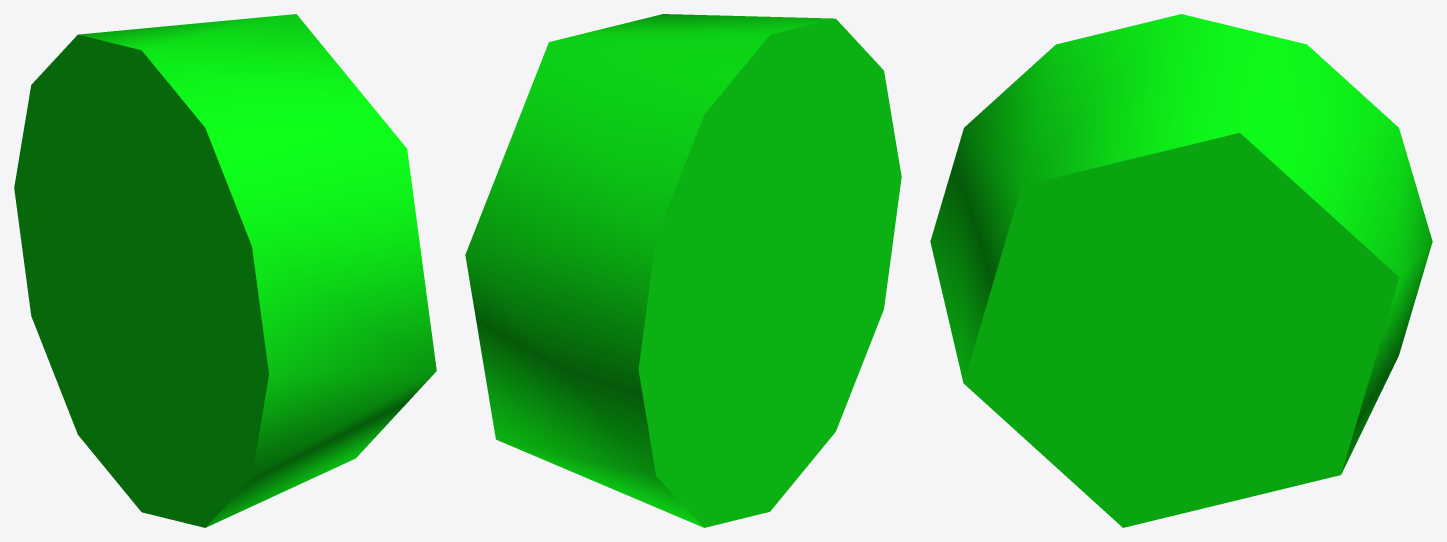
File: SM_Toster_01_Button_02_Collider.fbx
3 renders of one model, left to right at view 1: azimuth 30°, elevation 25°; view 2: azimuth 150°, elevation 25°; view 3: azimuth 270°, elevation 25°, orthographic. The views are drawn at different scales.
Parts seen in each view (by area): view 1: SM_Toster_01_Button_02_Collider; view 2: SM_Toster_01_Button_02_Collider; view 3: SM_Toster_01_Button_02_Collider.
Boxes of the visible parts, <box> form: SM_Toster_01_Button_02_Collider: <box>14,14,436,527</box>; SM_Toster_01_Button_02_Collider: <box>465,14,901,527</box>; SM_Toster_01_Button_02_Collider: <box>930,14,1432,527</box>.
Bounding box in the file's own units: 2.65 × 6.35 × 6.35.
